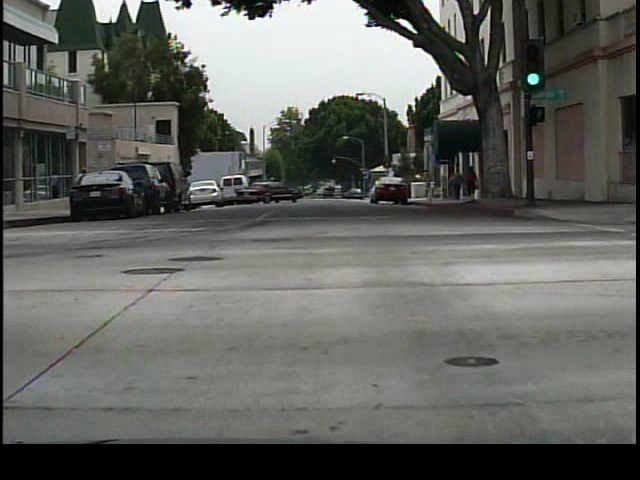person: (464, 161, 482, 205), (446, 171, 467, 206)
